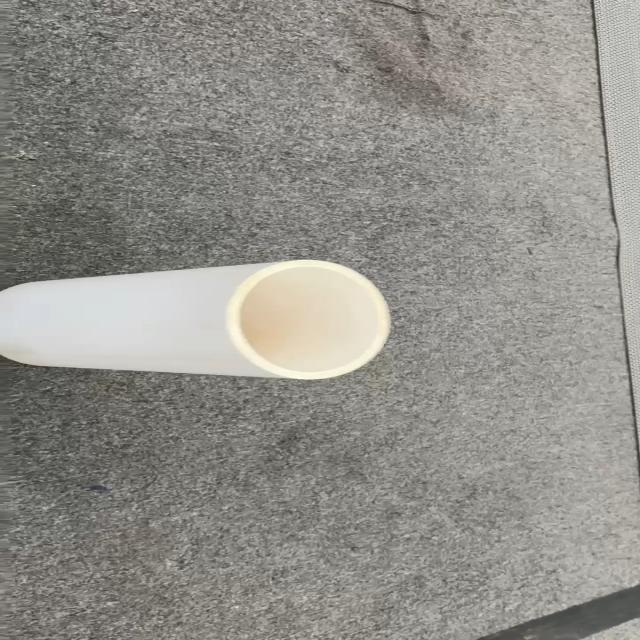coral: (1, 258, 392, 380)
